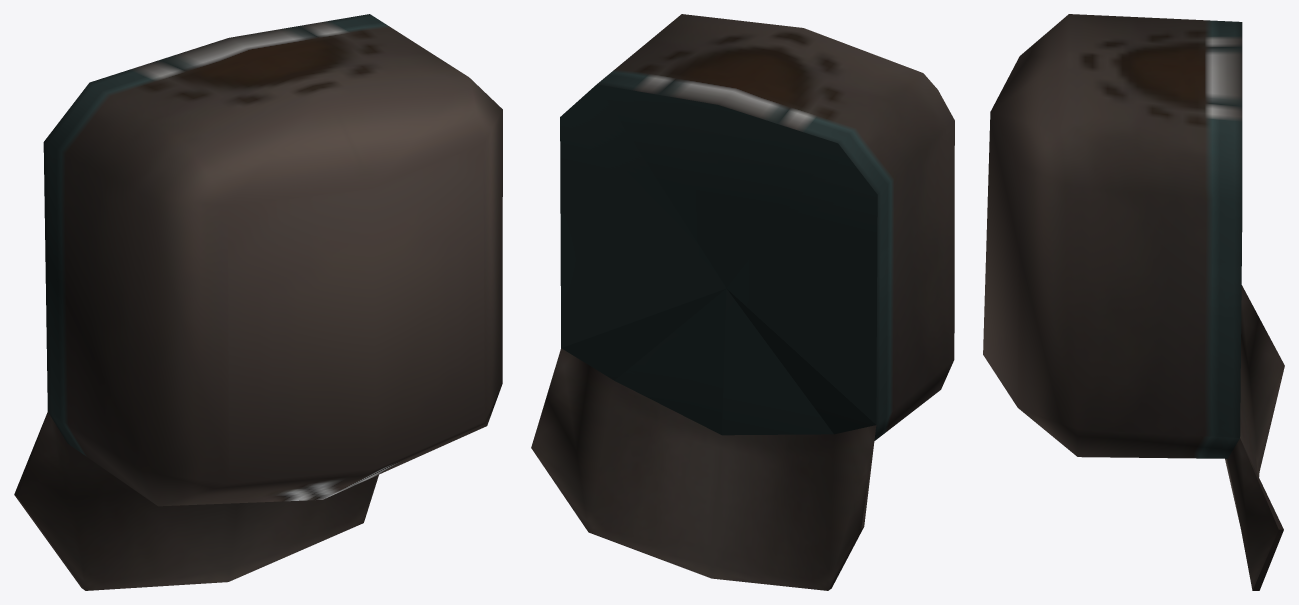
File: Avatar_Mike_H_01_2_f2e774f8__Avatar_Mike_A_01_0462253a_c1f257.obj
3 renders of one model, left to right at view 1: azimuth 30°, elevation 25°; view 2: azimuth 150°, elevation 25°; view 3: azimuth 270°, elevation 25°, orthographic. The views are drawn at different scales.
Bounding box in the file's own units: 0.741 × 1.04 × 0.5763.
1 material, 1 textured.
